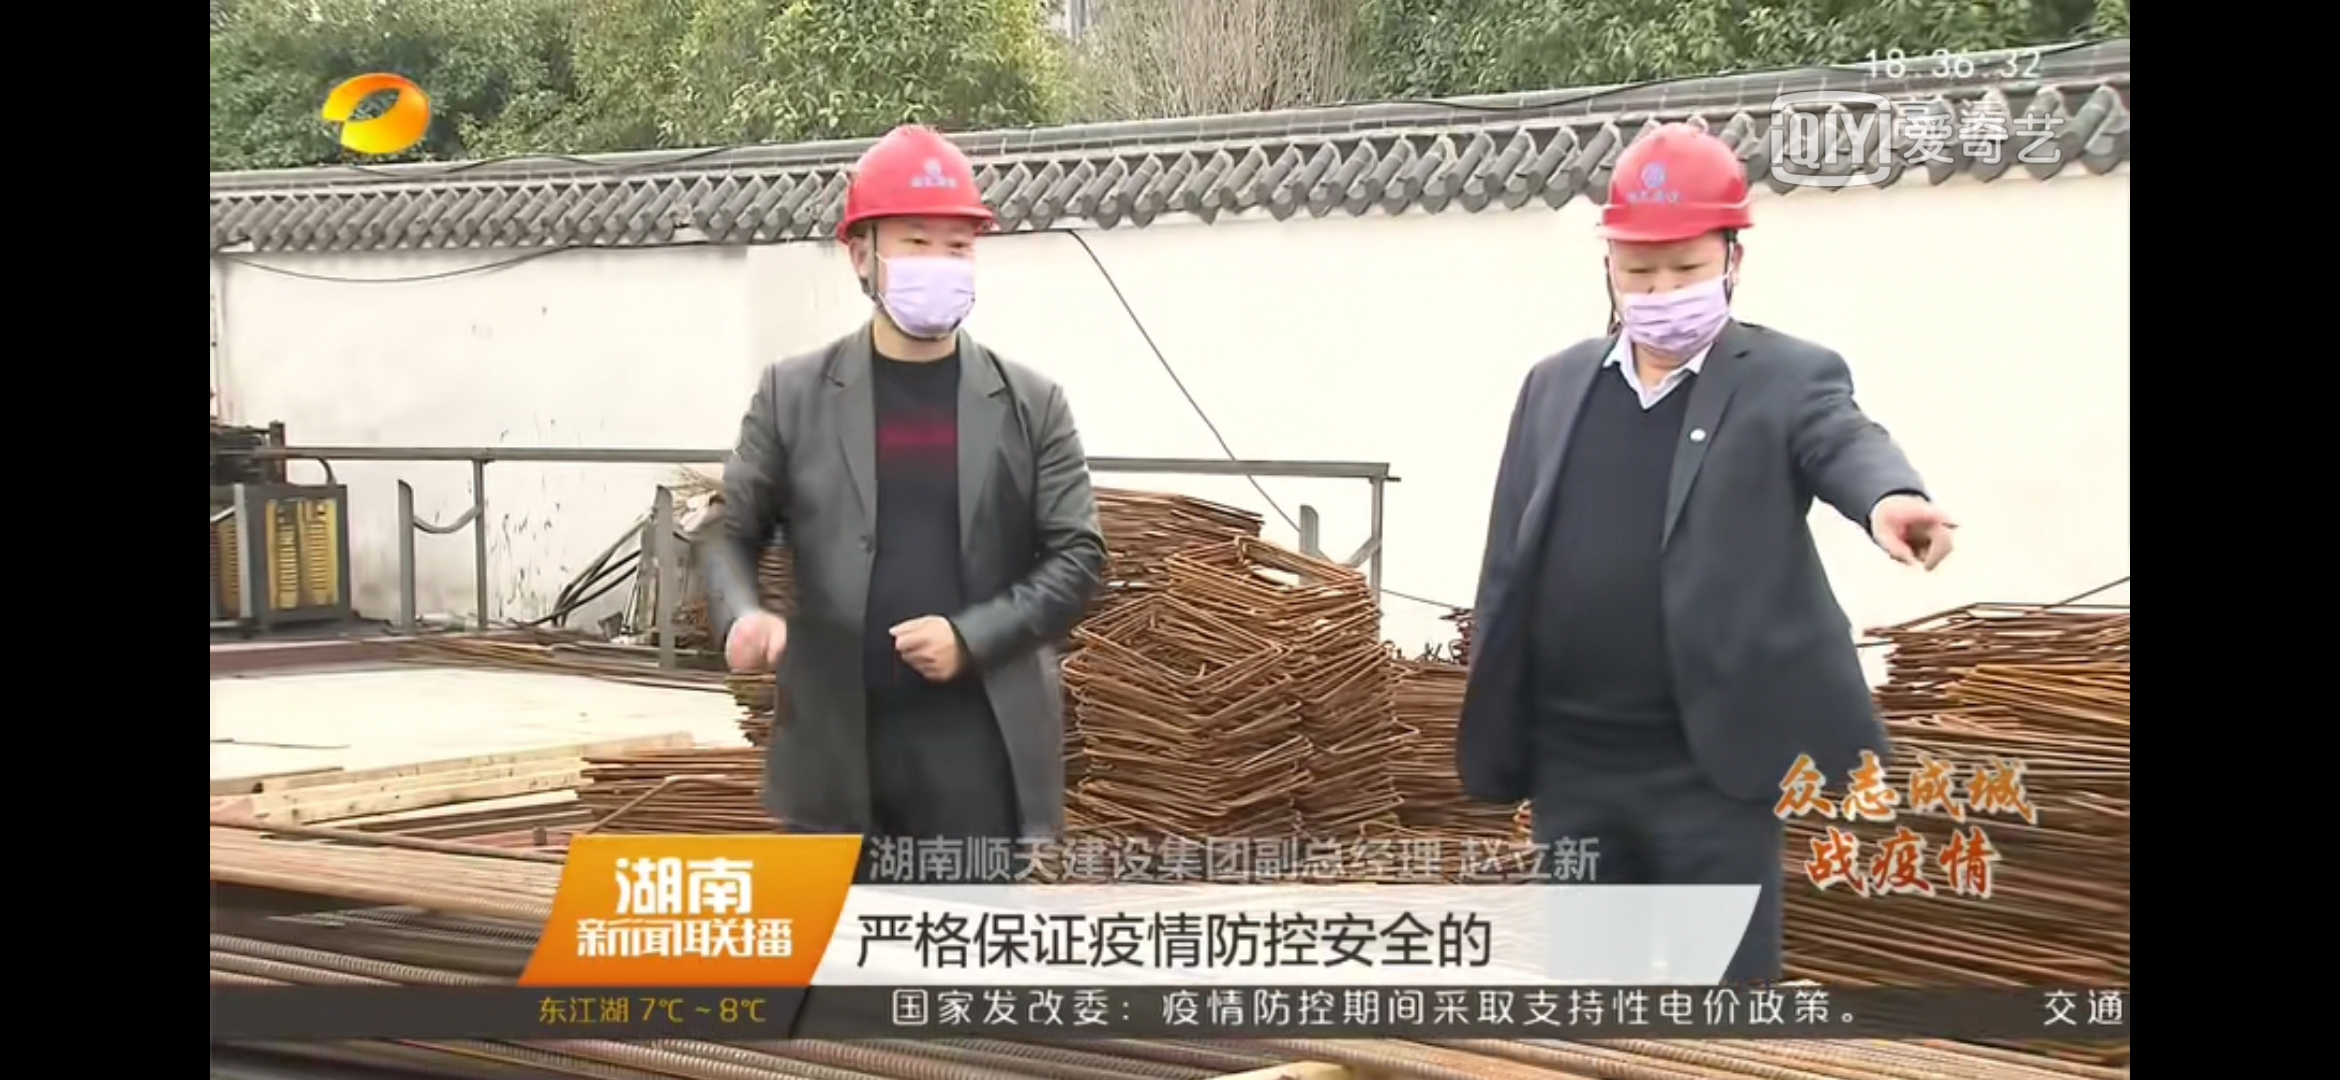correctlyWear: (1595, 213, 1748, 362), (845, 186, 977, 346)
